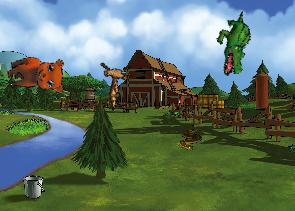bear: (4, 51, 68, 102)
crocodile: (210, 11, 259, 77)
eagle: (87, 52, 142, 110)
